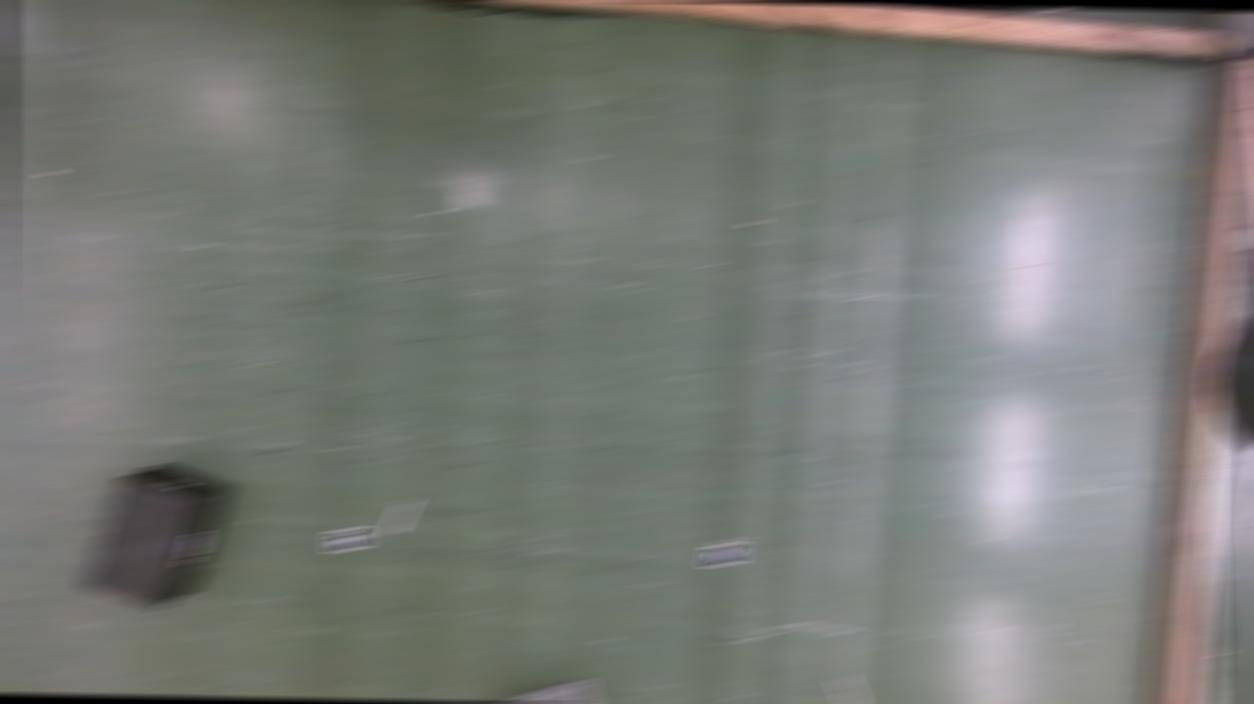probes: (385, 498, 416, 534), (834, 674, 864, 704)
rako: (81, 460, 234, 609), (510, 679, 598, 703)
